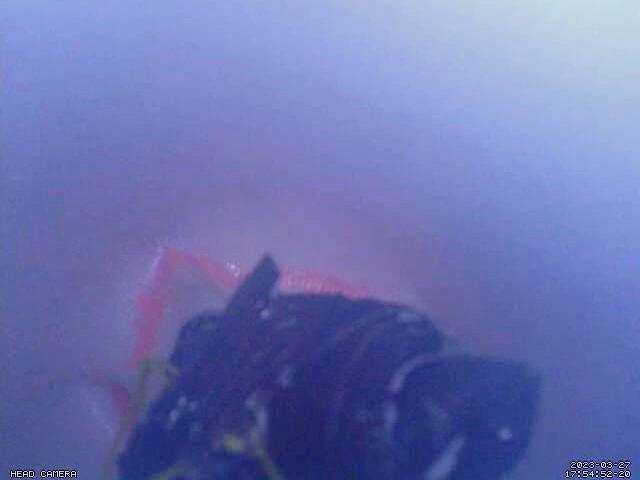head: (95, 242, 368, 424)
